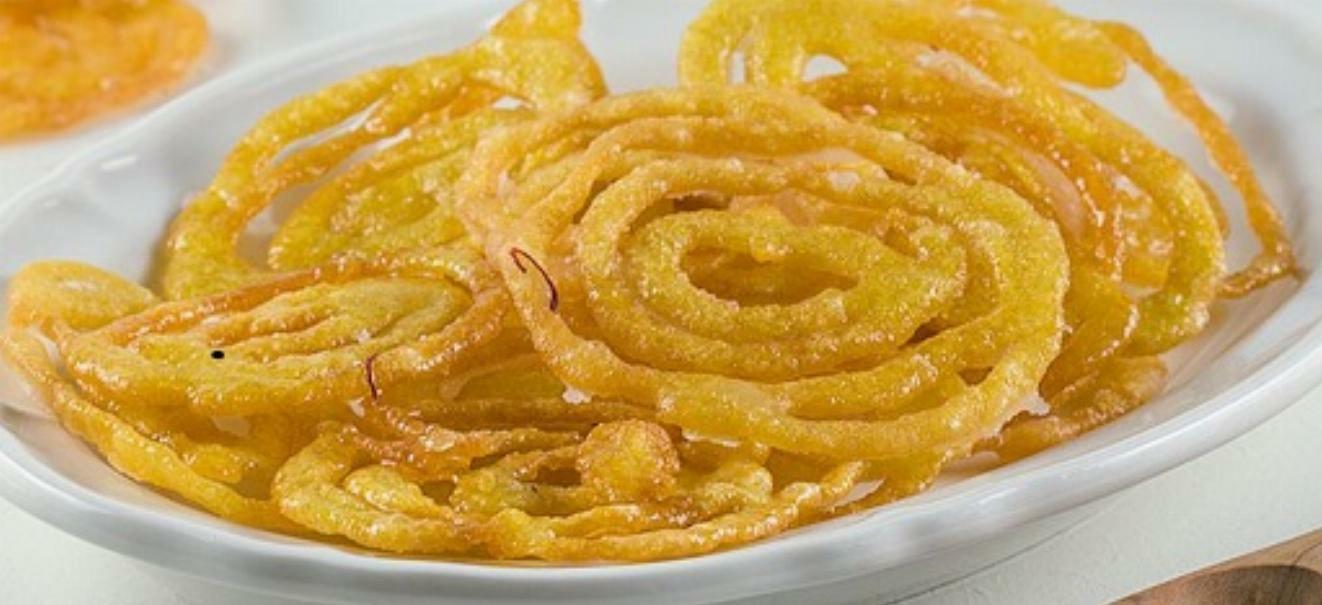Jalebi: (3, 0, 1311, 563)
